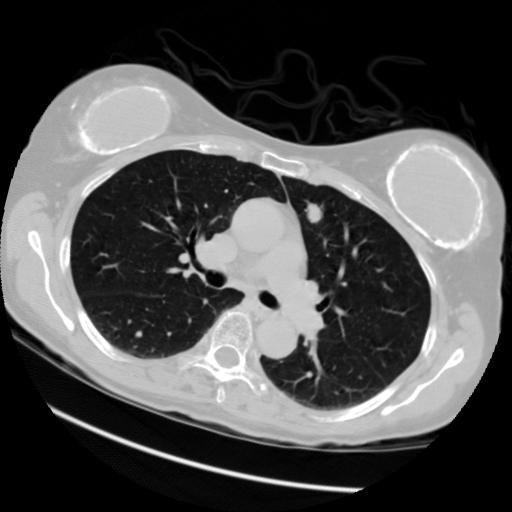nodule: (299, 200, 331, 232)
